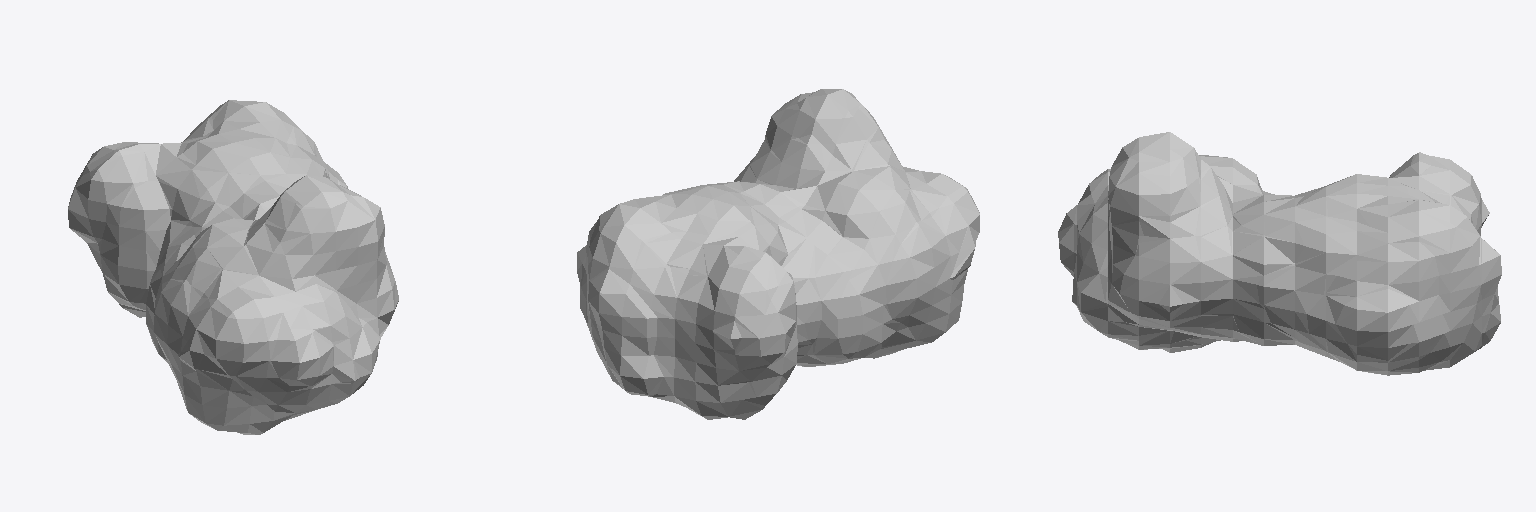
File: 1brw_cms.obj
3 views of the same model, side by side, from view 1: azimuth 30°, elevation 25°; view 2: azimuth 150°, elevation 25°; view 3: azimuth 270°, elevation 25° (orthographic).
Size of the model in its own units: 82.62 by 70.34 by 116.